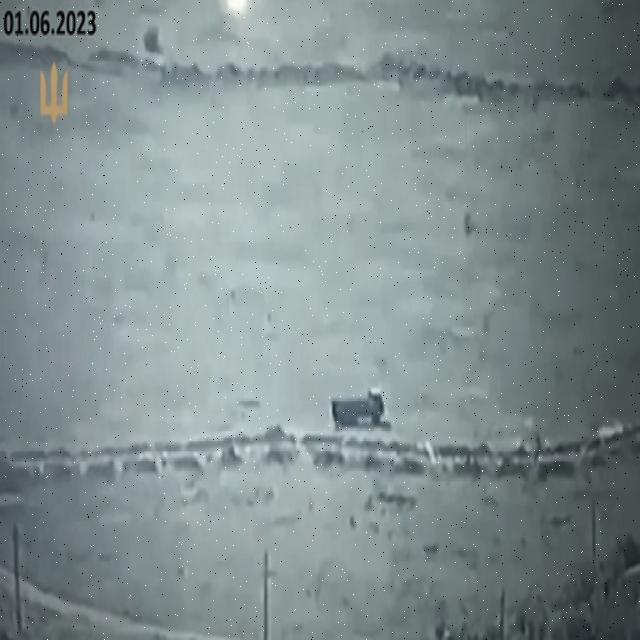TRUCK: (324, 376, 386, 438)
